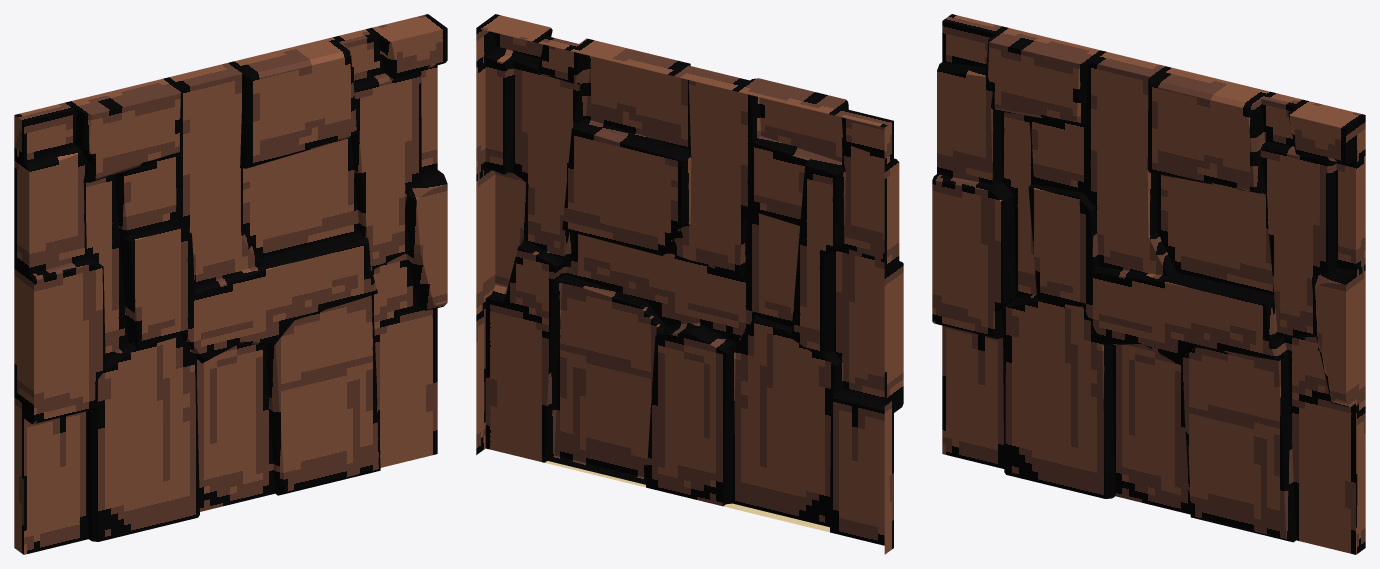
The model's file is Cliff_A.glb.
3 views of the same model, side by side, from view 1: azimuth 30°, elevation 25°; view 2: azimuth 150°, elevation 25°; view 3: azimuth 330°, elevation 25° (orthographic).
Visible parts, largest first — view 1: Cliff_A; view 2: Cliff_A; view 3: Cliff_A.
Boxes of the visible parts, box(x1,y1,x2,y2) form: Cliff_A: box(14, 14, 447, 554); Cliff_A: box(476, 14, 903, 554); Cliff_A: box(932, 14, 1365, 554).
Size of the model in its own units: 5 by 5 by 0.4082.
1 material, 1 textured.
